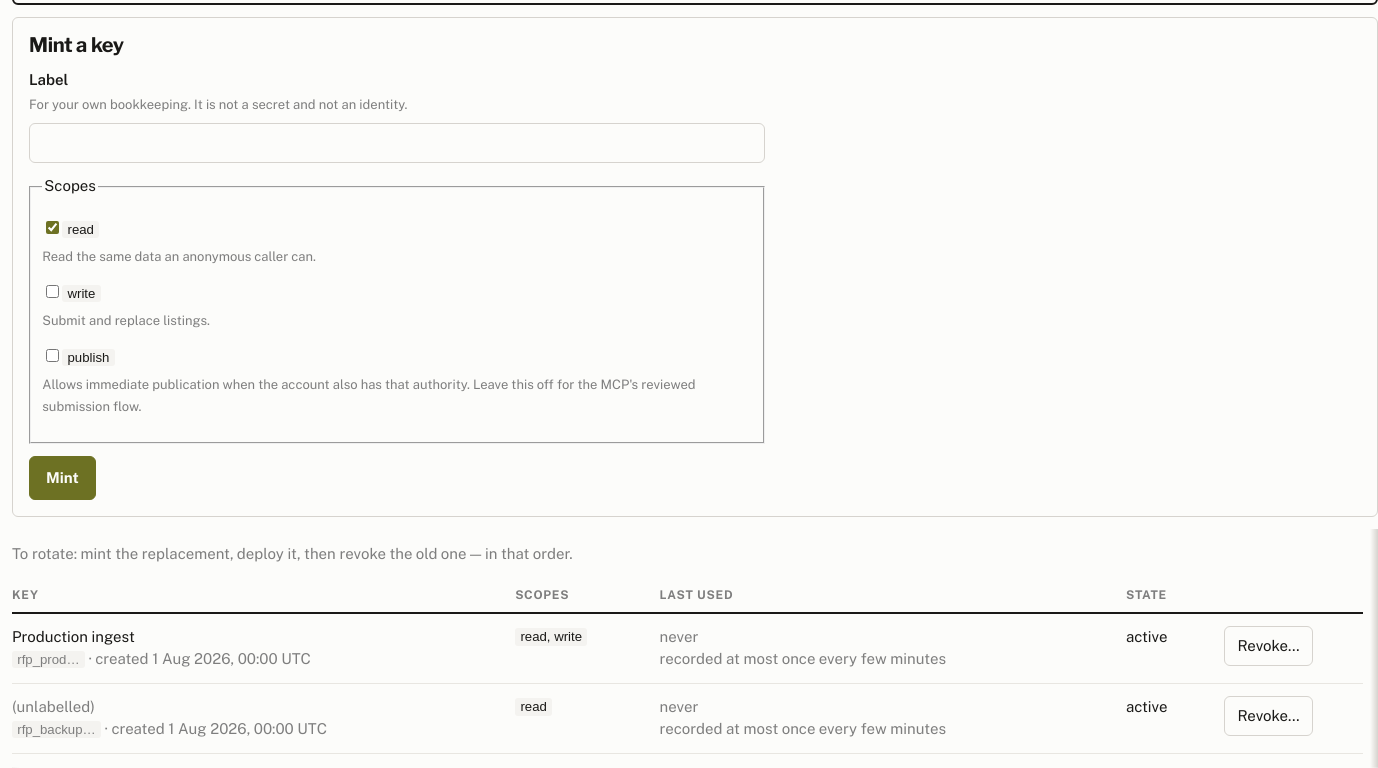
it: revoking a key › stages the consequence on the first click without revoking
(page scrolled)
Click the button "Revoke…" in the row of "Production ingest" at (1268, 646), box [1224,626,1313,666]
(page scrolled)
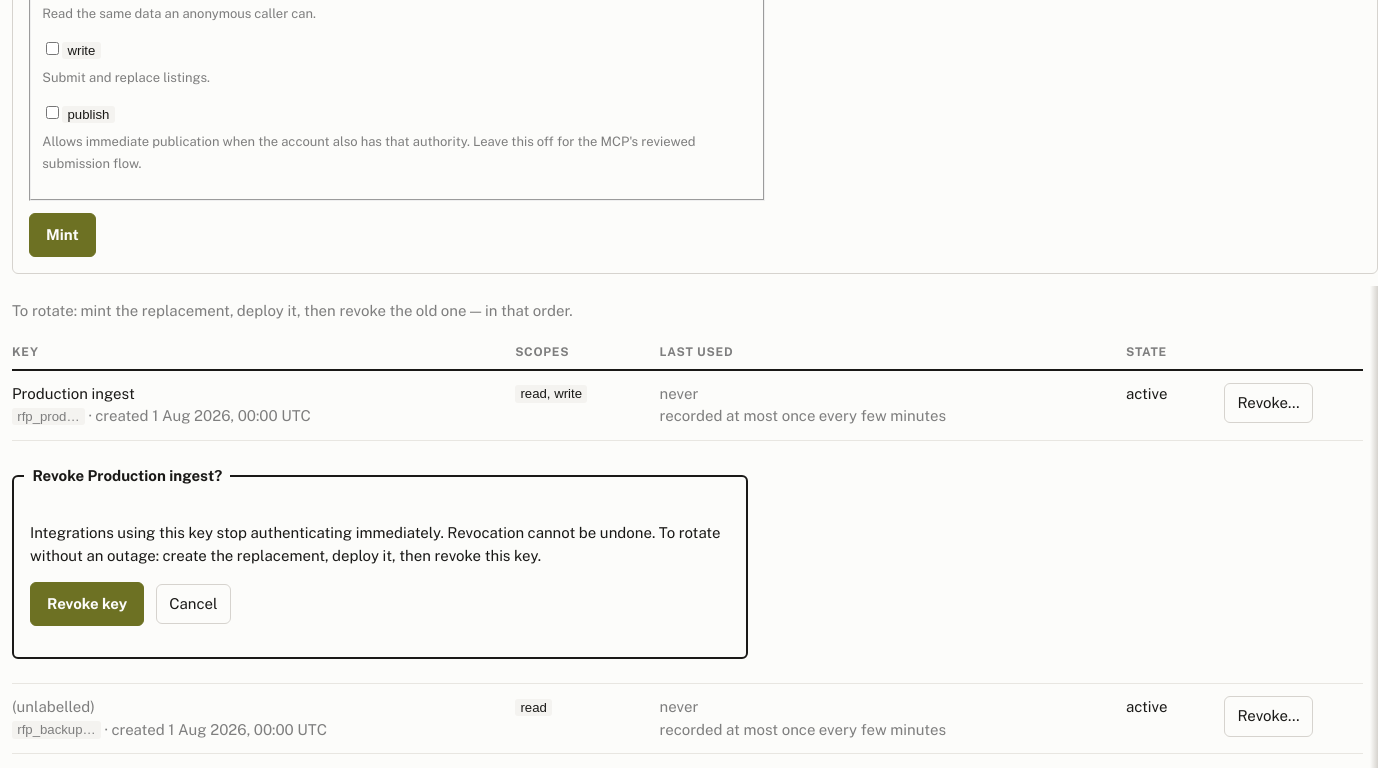
Expected: the text "create the replacement, deploy it, then revoke" is shown, [30,524,720,564]
